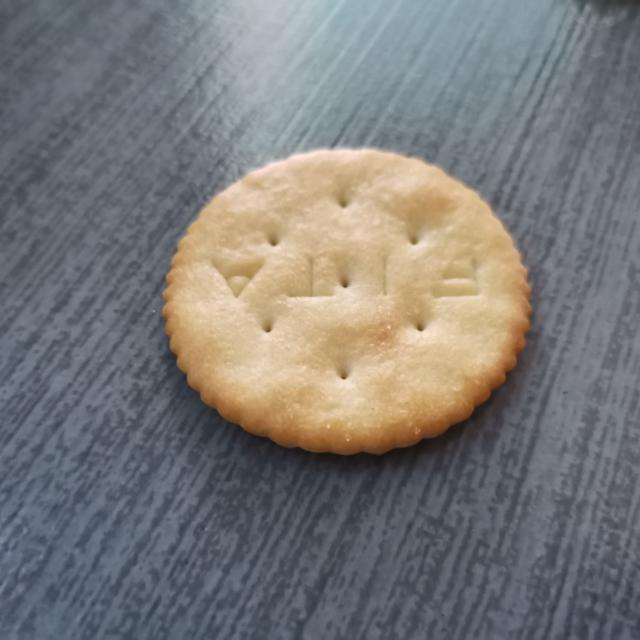Intact: (144, 135, 547, 466)
